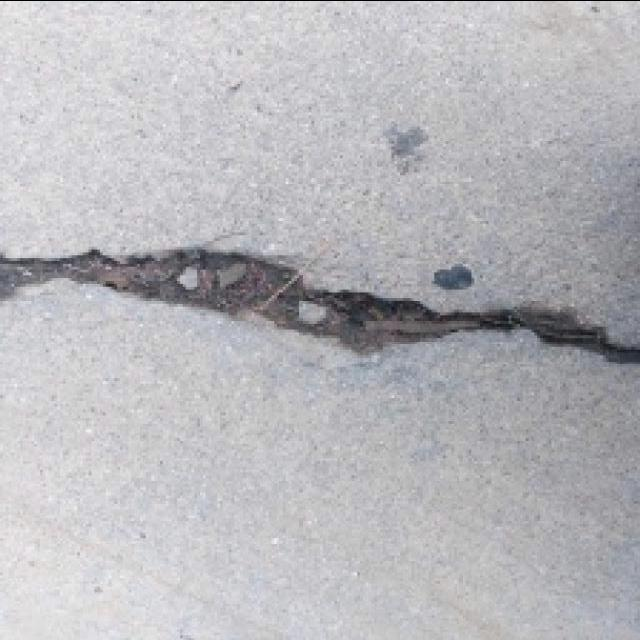SurfaceCrack: (0, 222, 638, 380)
